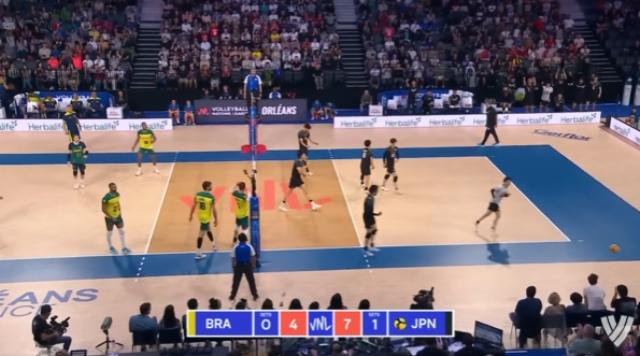Levantador: (225, 173, 259, 264), (348, 125, 380, 189)
Libero: (473, 160, 519, 250), (54, 123, 100, 199)
bola: (594, 232, 632, 266)
